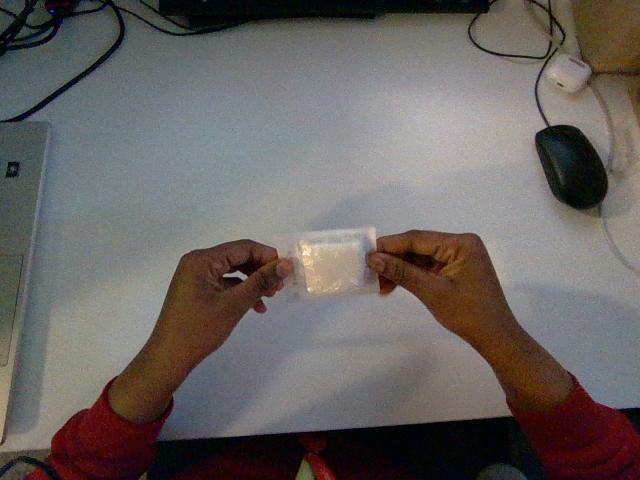gauze: (277, 227, 378, 300)
